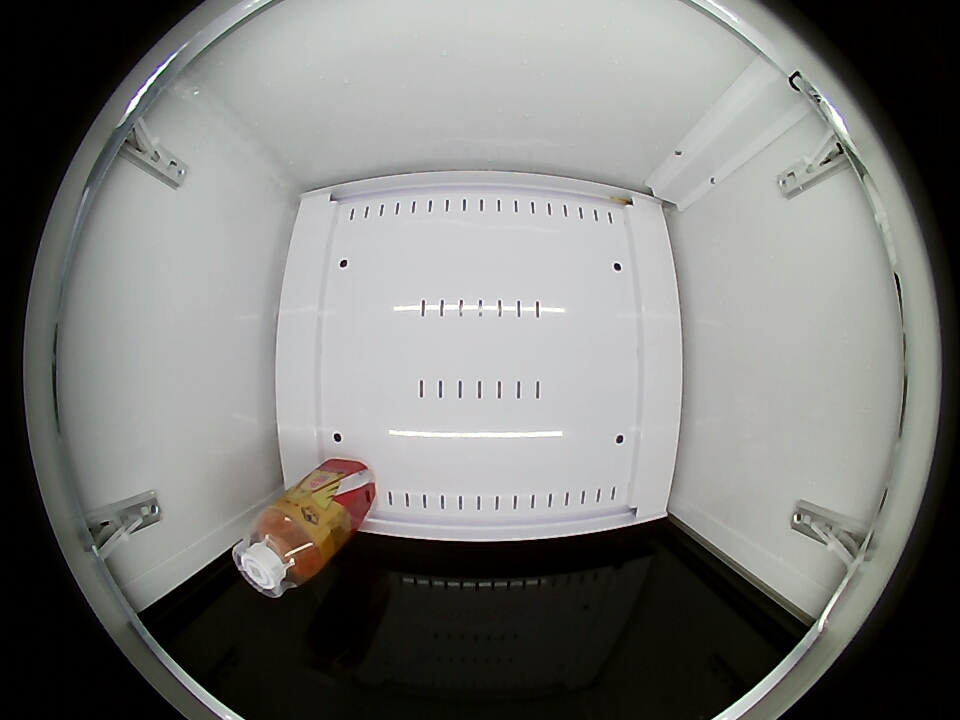dongpeng-b: (233, 503, 329, 597)
